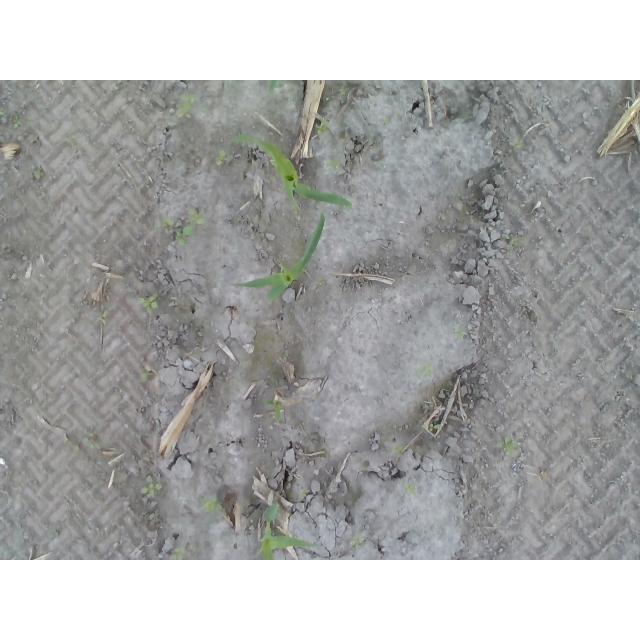Maize: (231, 132, 354, 208), (234, 212, 327, 307), (256, 502, 321, 560)
Weeds: (161, 210, 205, 246), (175, 93, 197, 119), (264, 398, 284, 423), (140, 481, 164, 500), (0, 111, 24, 130), (137, 294, 159, 310), (203, 496, 221, 513), (505, 439, 520, 457), (216, 149, 229, 167), (82, 432, 95, 449), (316, 119, 329, 136), (351, 535, 366, 549), (170, 548, 184, 561), (140, 370, 153, 382), (428, 423, 441, 434), (513, 138, 523, 150), (33, 169, 43, 180), (407, 485, 417, 495), (99, 310, 105, 324), (511, 239, 519, 249)
